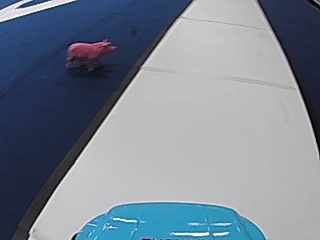pig: (64, 35, 116, 72)
